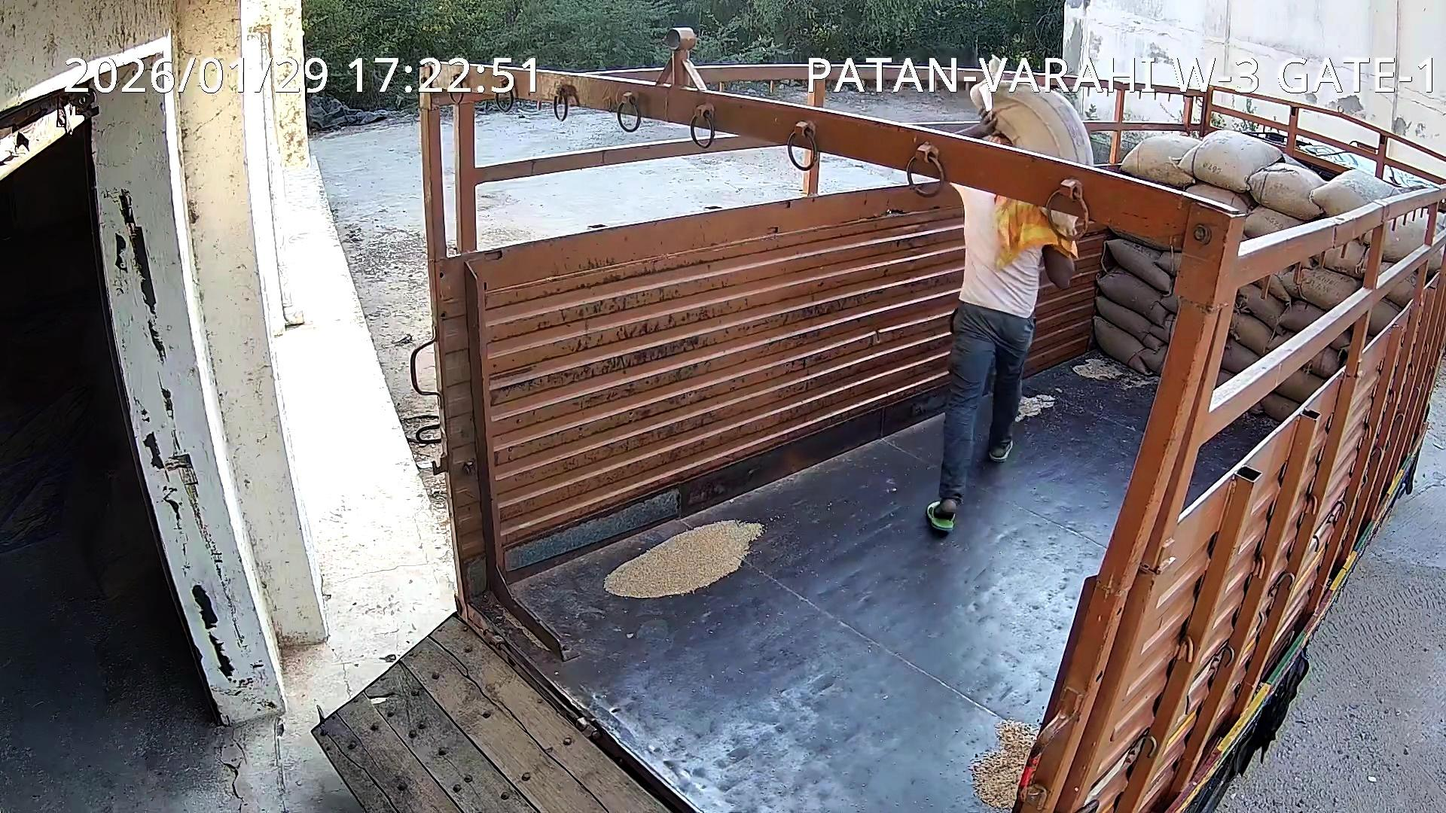Sack: (970, 79, 1092, 165), (1051, 215, 1078, 236)
